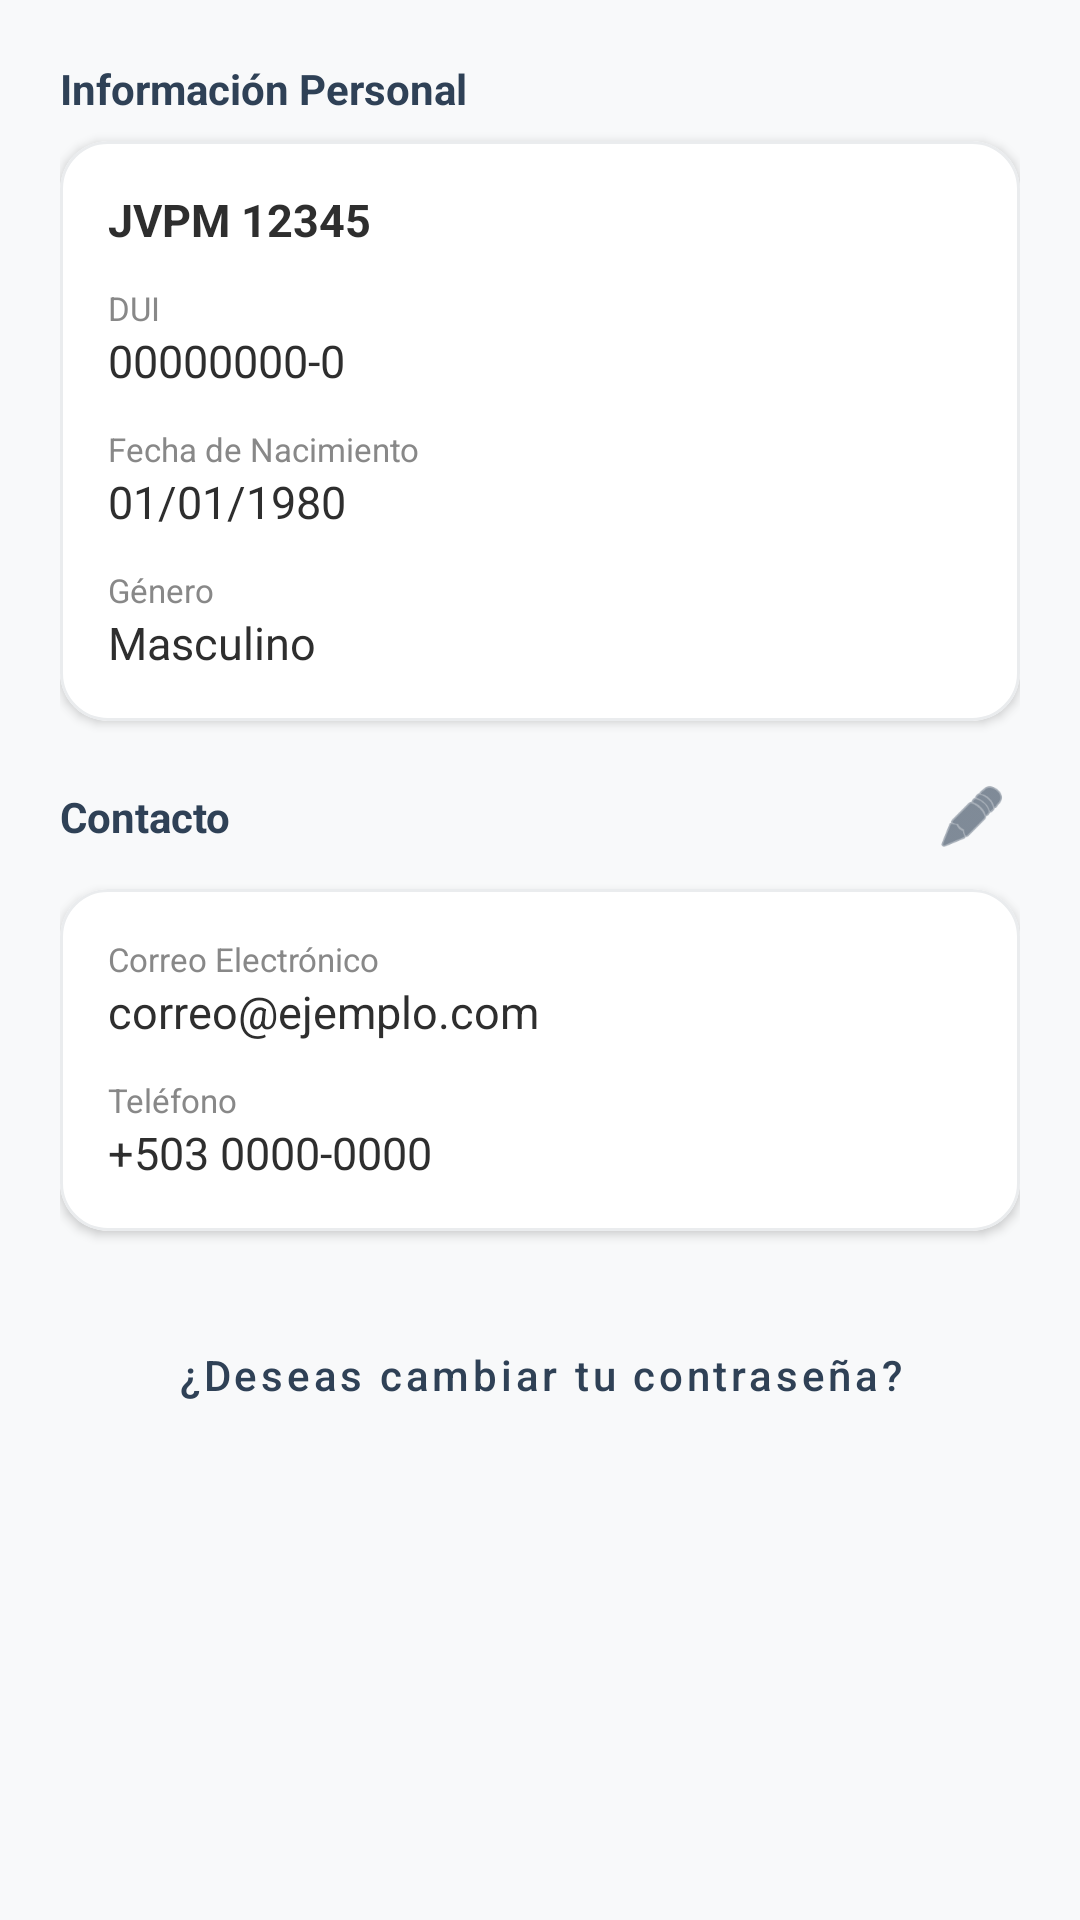

Icons on this 1080 × 1920 Android screen, each with its box as (x1, y1, x2, y2):
Editar contacto: (941, 786, 1002, 847)
